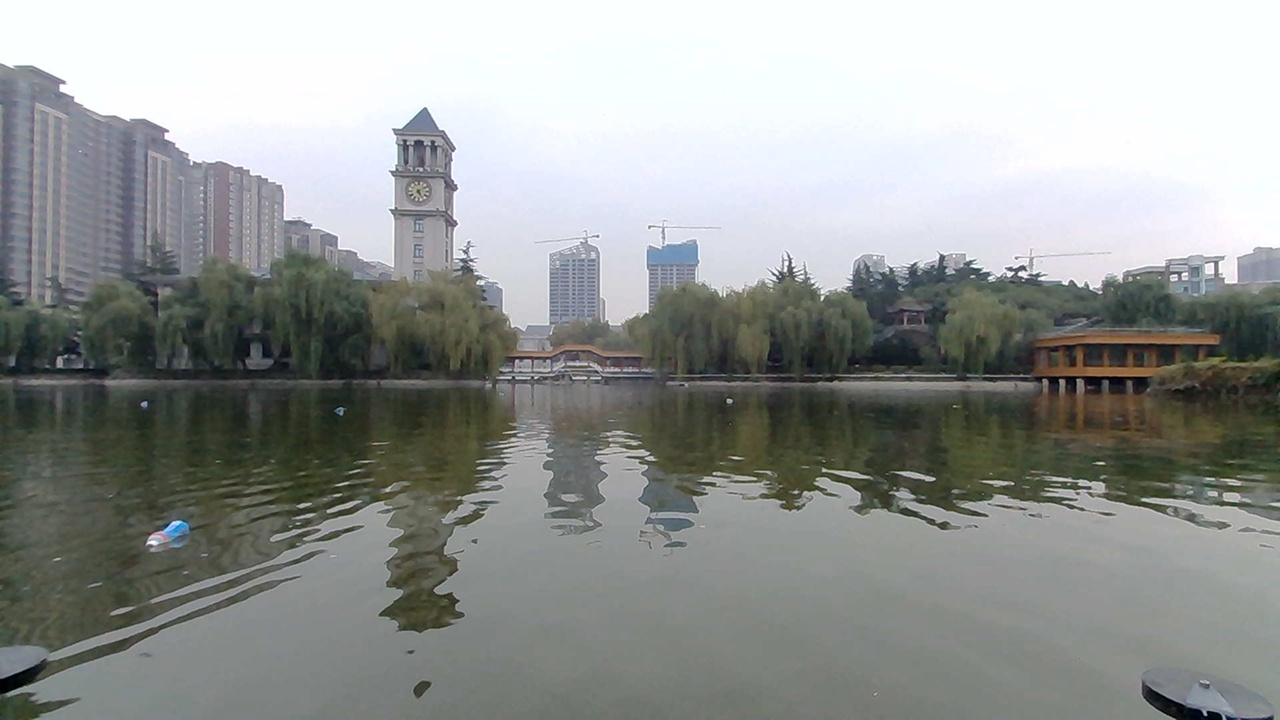bottle: (130, 515, 215, 555), (130, 392, 166, 416), (328, 397, 362, 419), (716, 393, 752, 412)
